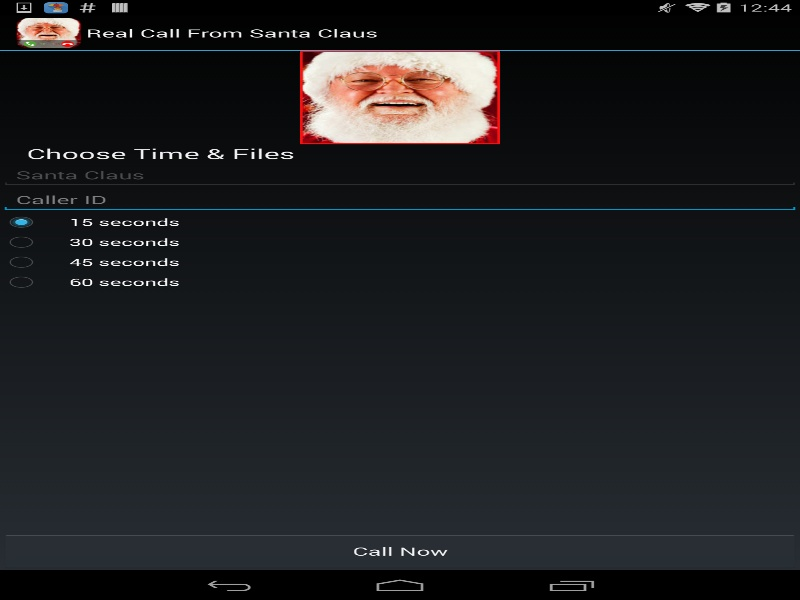Button: (0, 532, 800, 570)
Input: (0, 162, 800, 187), (0, 187, 800, 212)
